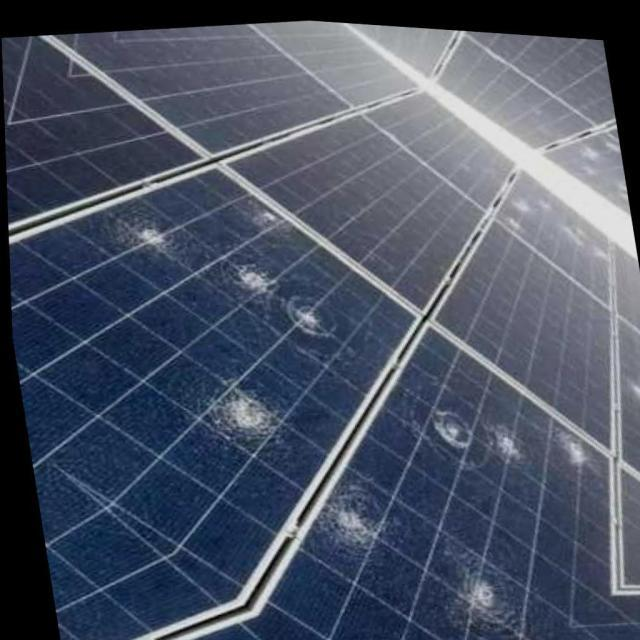cracked: (11, 170, 360, 630), (328, 320, 630, 640), (502, 174, 626, 298), (560, 125, 640, 226)
